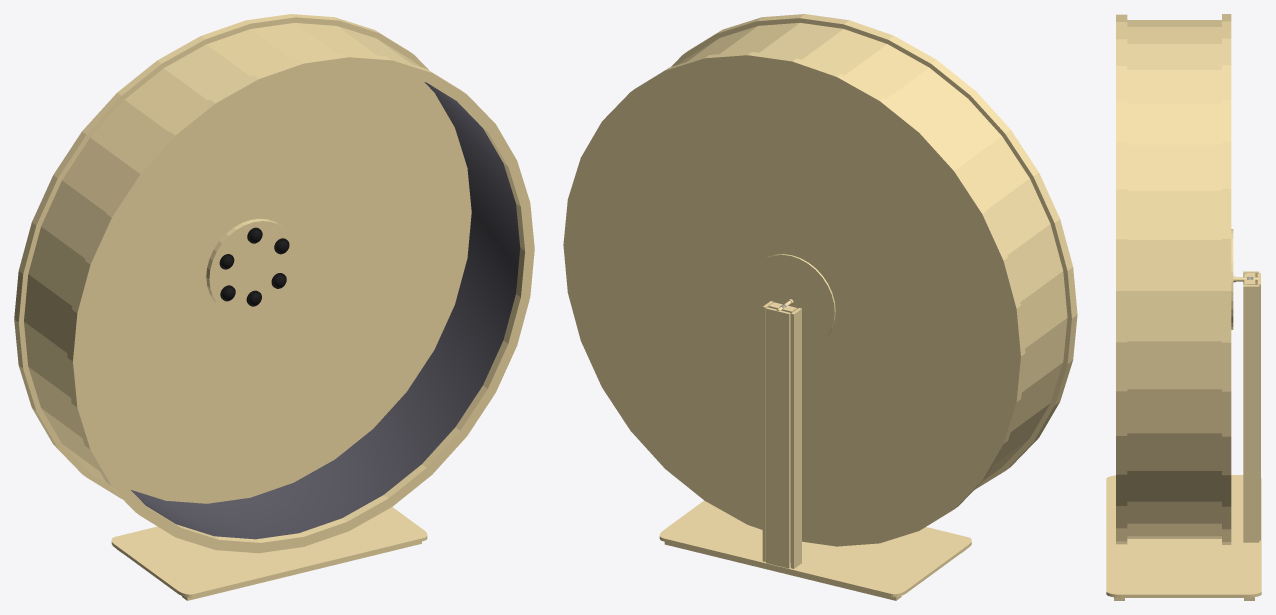
The model's file is CatWheelforUnity.fbx.
The picture shows the model from 3 angles, left to right: view 1: azimuth 30°, elevation 25°; view 2: azimuth 150°, elevation 25°; view 3: azimuth 270°, elevation 25°; orthographic projection.
Parts seen in each view (by area): view 1: Cat1.001, Float1.001, Float2.001; view 2: Cat1.001, Float1.001, Base1.001, Base2.001, Base3.001, Float2.001; view 3: Cat1.001, Float1.001, Base3.001, Base1.001.
Boxes of the visible parts, <box> form: Cat1.001: <box>14,14,534,553</box>; Float1.001: <box>111,507,427,597</box>; Float2.001: <box>117,541,421,600</box>; Cat1.001: <box>563,14,1077,546</box>; Float1.001: <box>659,500,971,597</box>; Base1.001: <box>766,307,790,568</box>; Base2.001: <box>791,308,801,568</box>; Base3.001: <box>762,301,773,561</box>; Float2.001: <box>664,542,965,600</box>; Cat1.001: <box>1116,14,1259,544</box>; Float1.001: <box>1106,475,1261,597</box>; Base3.001: <box>1243,285,1259,542</box>; Base1.001: <box>1257,273,1260,540</box>.
Bounding box in the file's own units: 3951 × 4146 × 1157.
